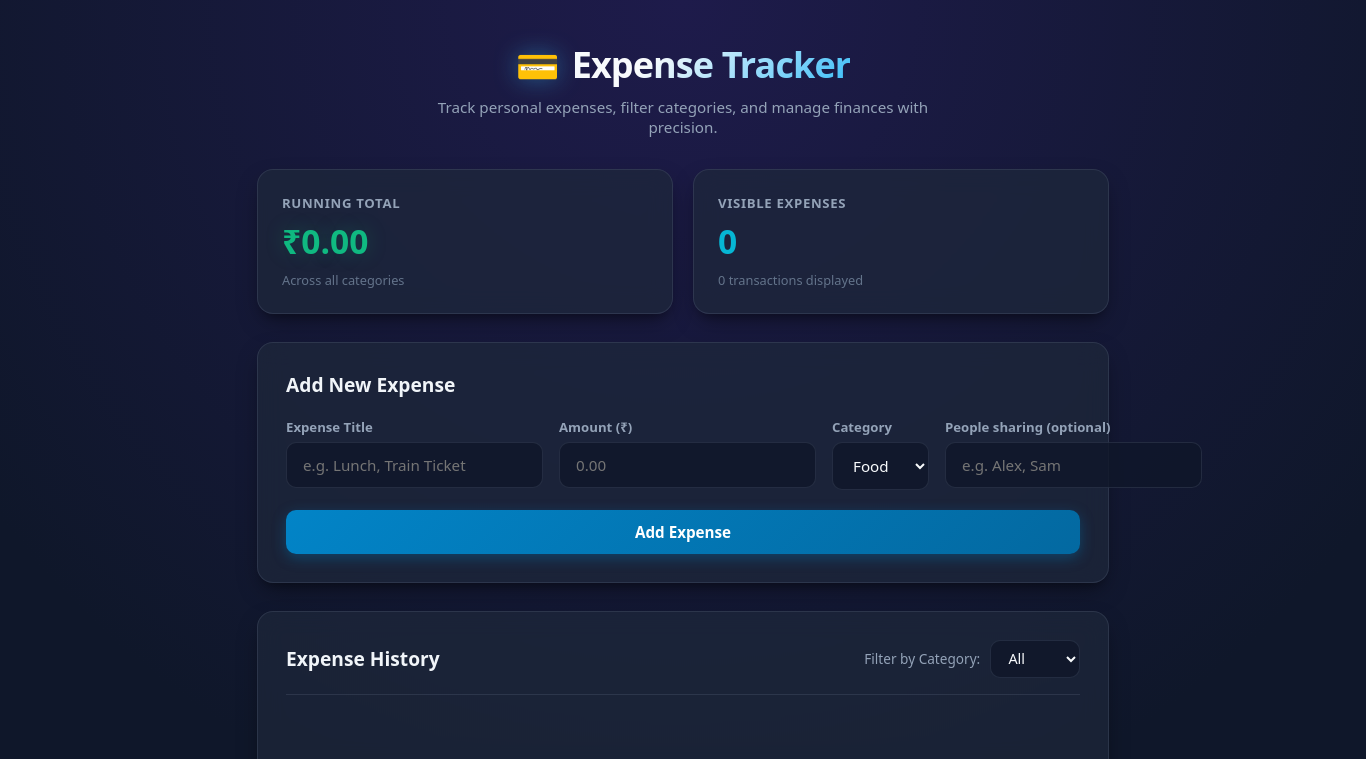
Test: Expense tracker - Input validation › rejects amounts exceeding 1,00,000
Type "Expensive Equipment" into the field with test id "title" at (415, 465), box [286, 442, 543, 488]
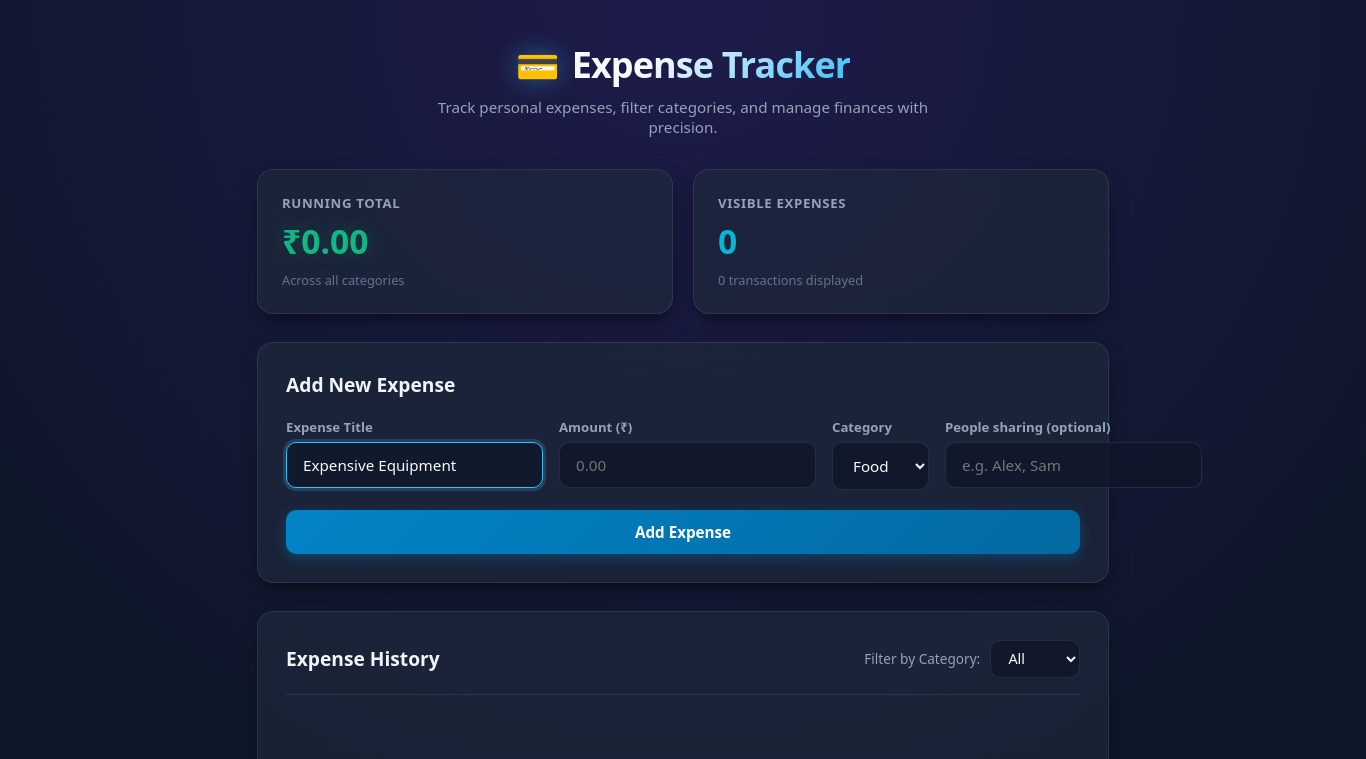
Type "150000" into the number field with test id "amount" at (688, 465), box [559, 442, 816, 488]
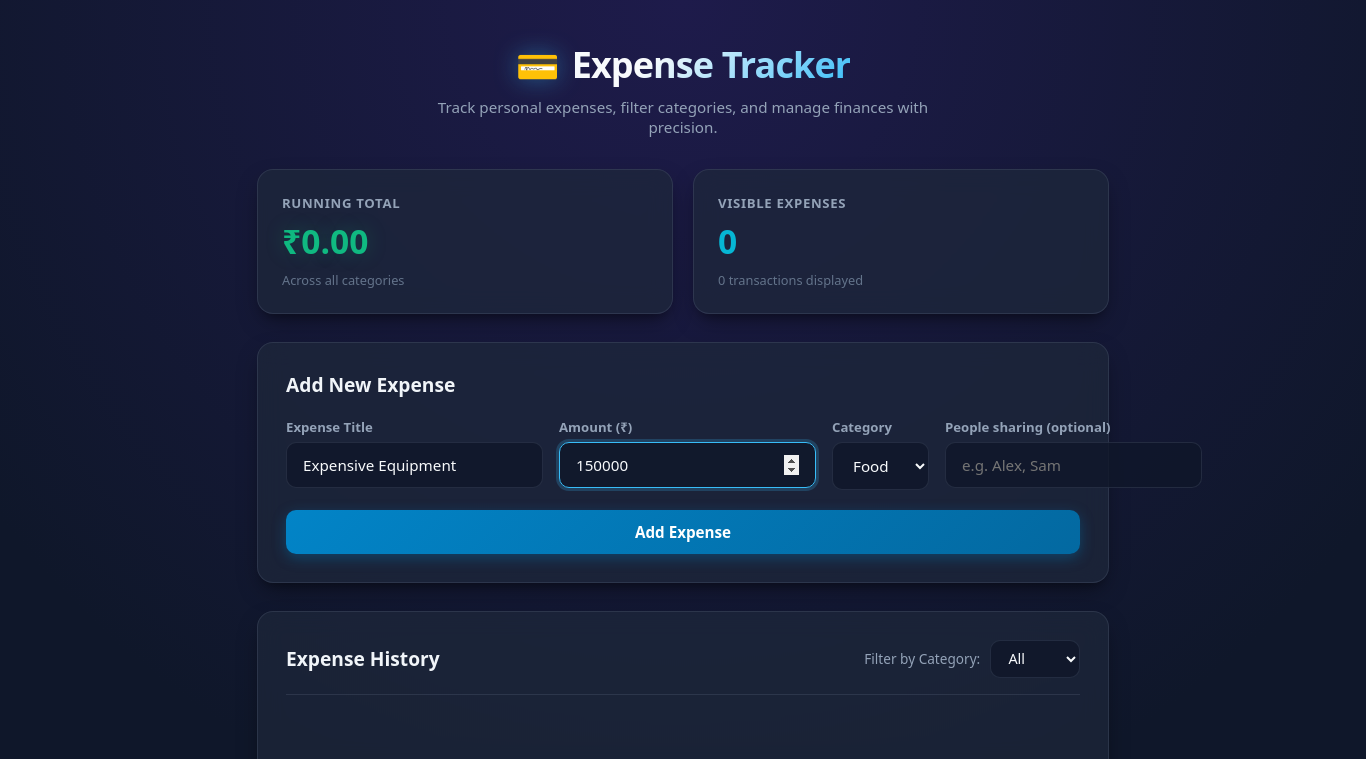
Click the button with test id "add-expense" at (683, 532), box [286, 510, 1080, 554]
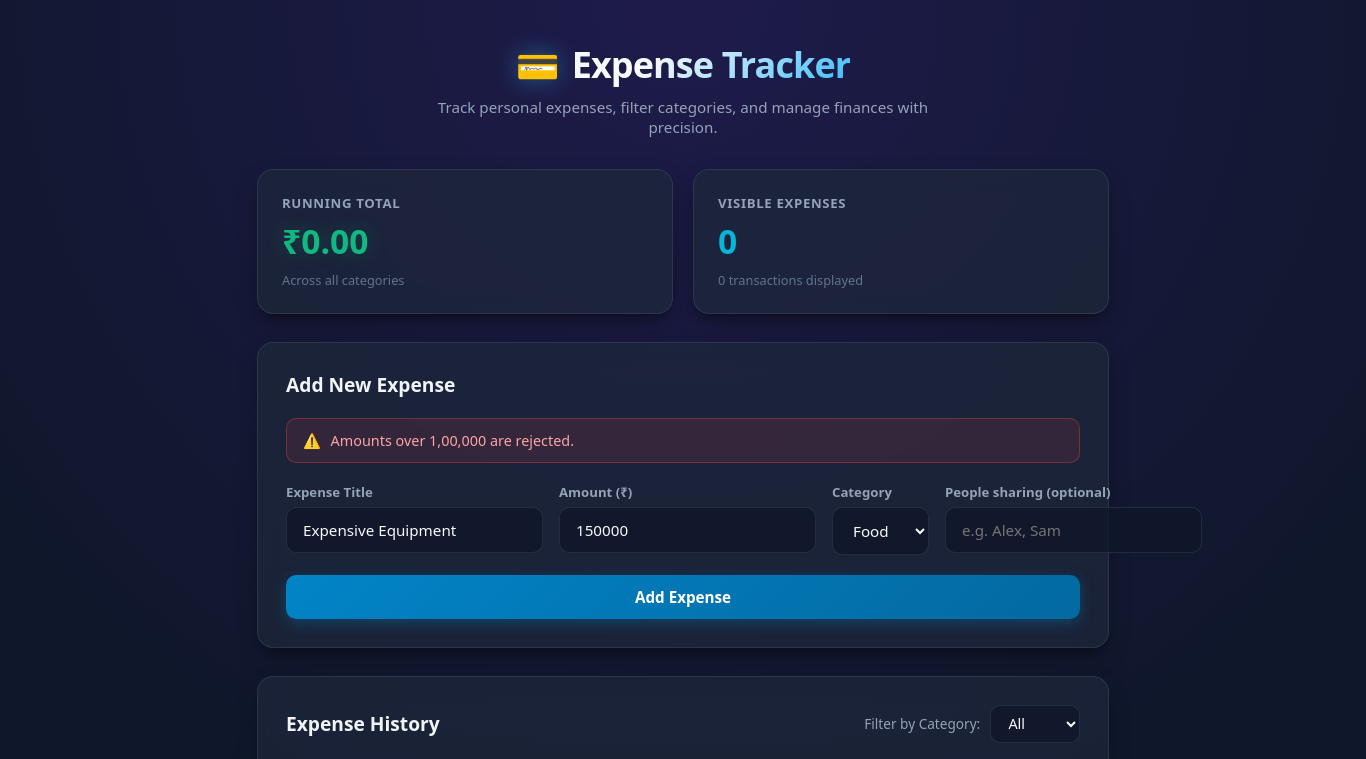
expect the message "⚠️ Amounts over 1,00,000 are rejected." is shown: met, box [286, 418, 1080, 463]
expect the text with test id "error-message" shows "Amounts over 1,00,000 are rejected": met, box [331, 431, 574, 450]
